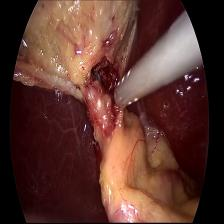Irrigator: (112, 50, 158, 114)
